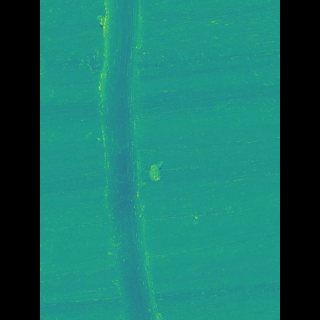Loch: (112, 0, 163, 320), (150, 155, 163, 185)
